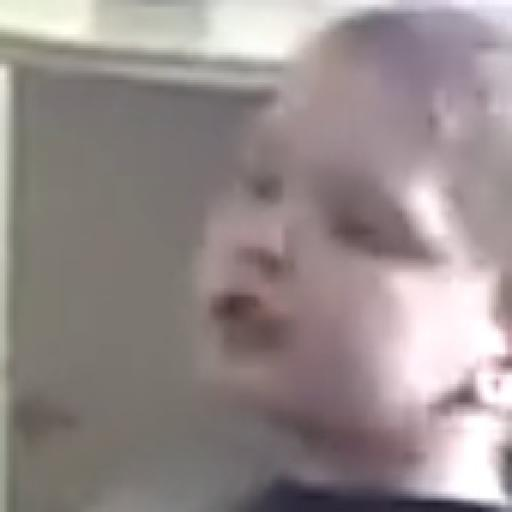Autism: (156, 15, 512, 501)
